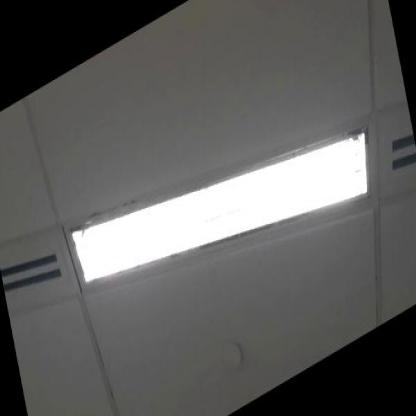light_on: (57, 34, 389, 388)
